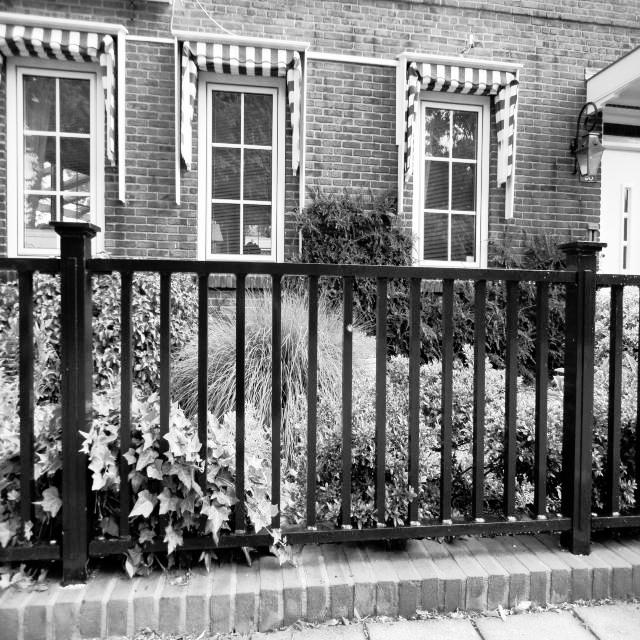fences: (10, 258, 640, 545)
